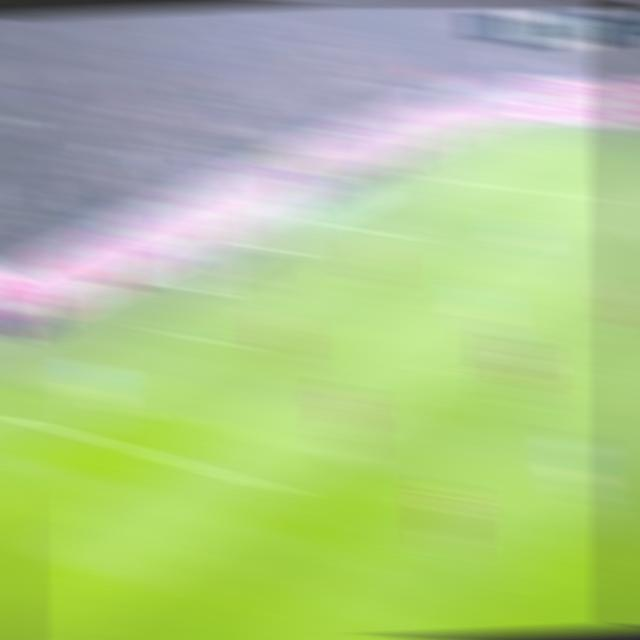bigarea_bottom_inner: (262, 477, 299, 500)
bigarea_top_outter: (407, 168, 440, 183)
corner: (503, 121, 537, 131)
smallarea_bottom_inner: (207, 332, 246, 355)
smallarea_bottom_outter: (125, 316, 162, 334)
smallarea_top_inner: (390, 228, 427, 246)
smallarea_top_outter: (320, 218, 353, 232)
top_arc_area_intersection: (554, 265, 588, 282)
